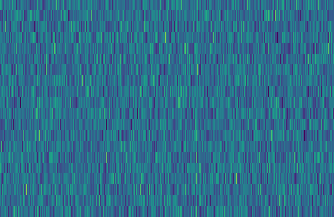signal: (192, 0, 201, 217)
